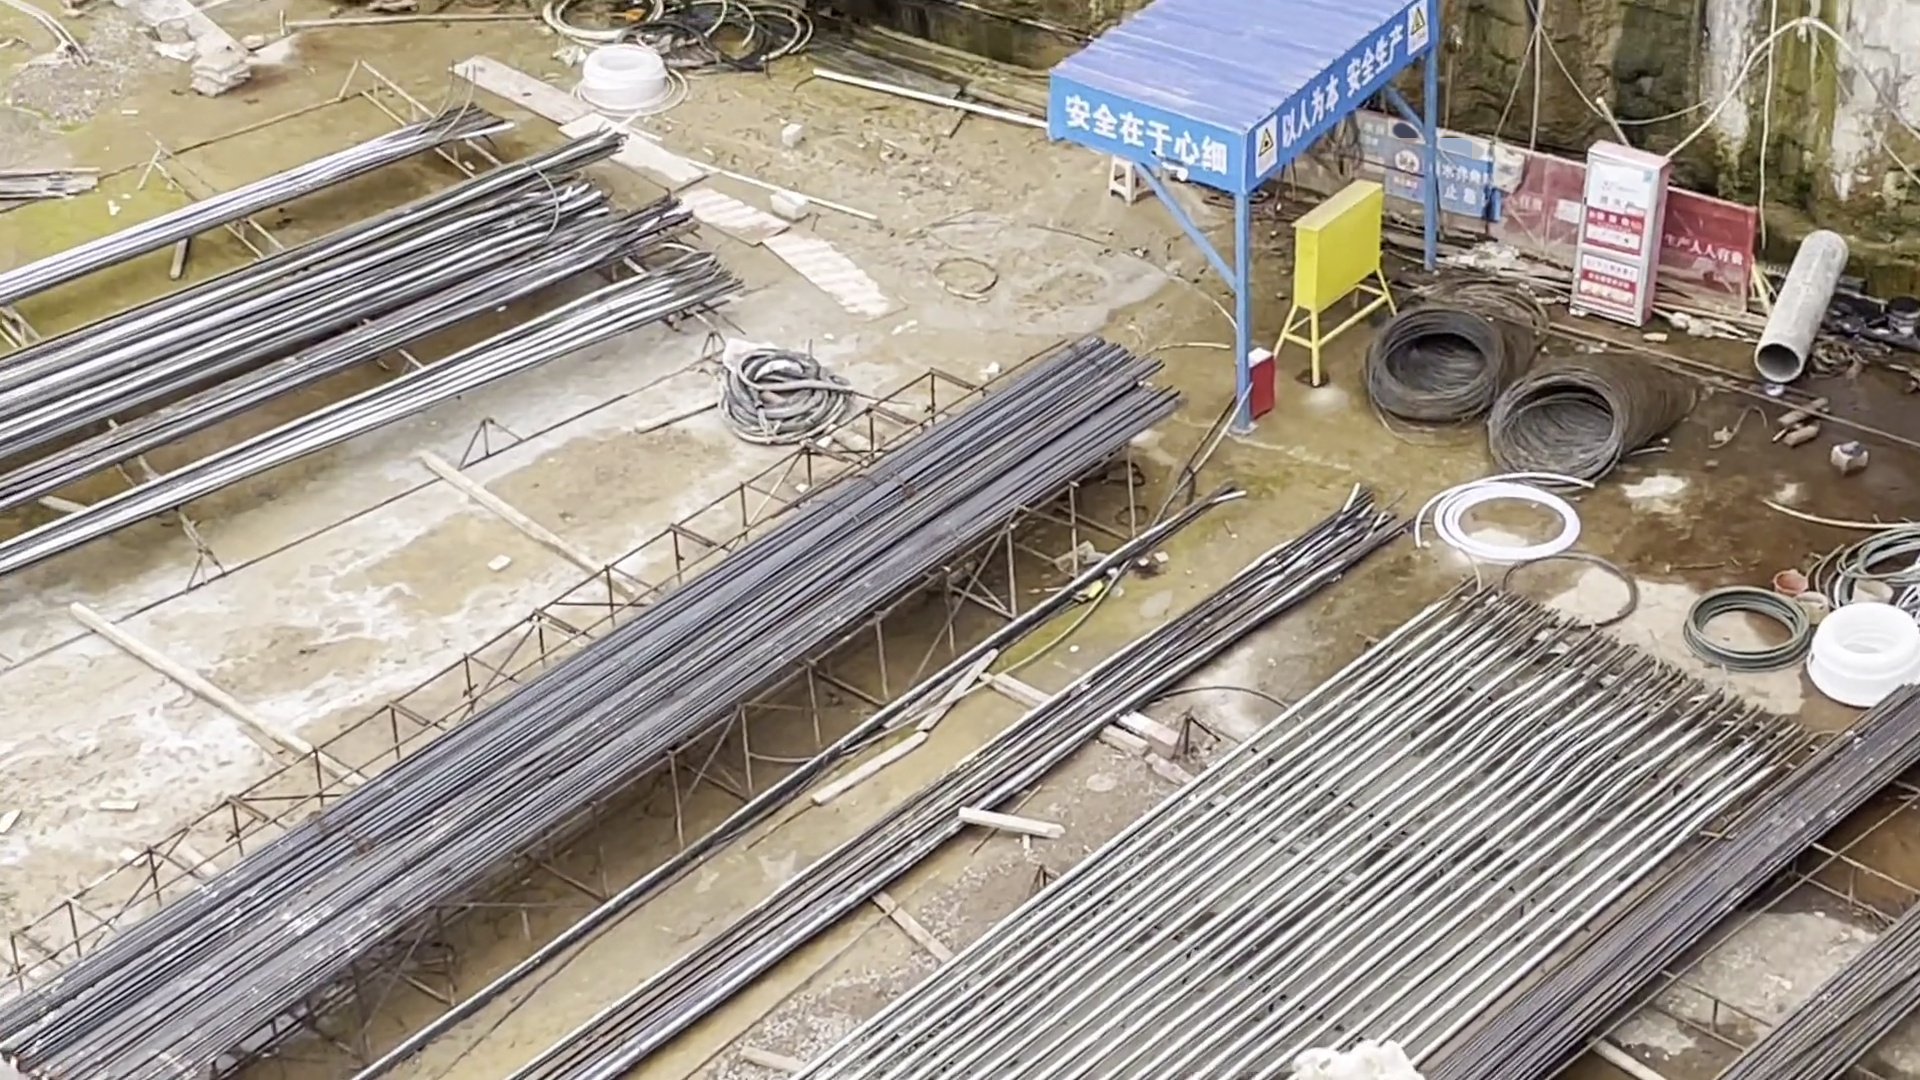ebox: (1279, 175, 1386, 384)
rebar: (1, 553, 783, 1080), (1415, 676, 1915, 1073), (3, 87, 705, 343), (781, 334, 1178, 641)
slogan: (1275, 22, 1431, 154), (1056, 88, 1232, 183), (1659, 223, 1768, 281)
